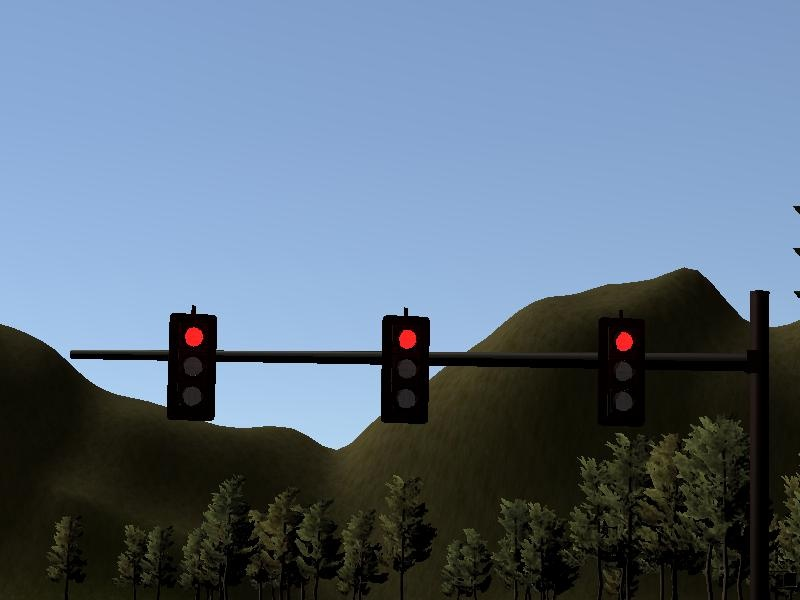traffic_light_red: (125, 303, 669, 427)
